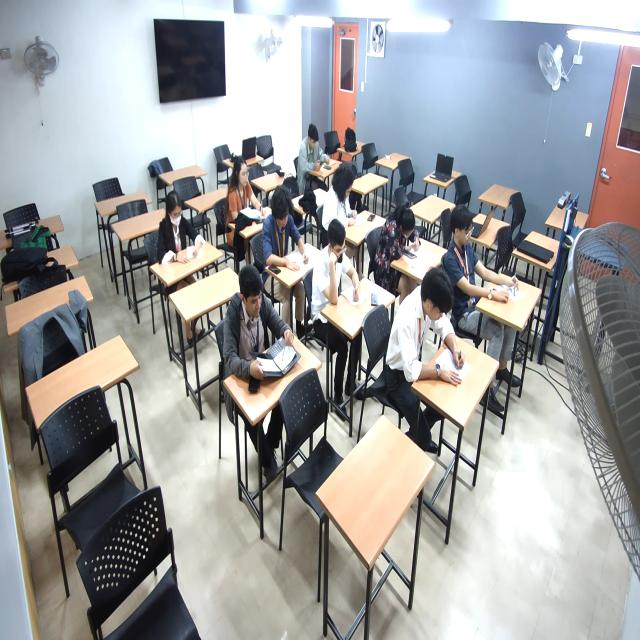read: (405, 278, 472, 396), (234, 275, 300, 393), (451, 209, 523, 304), (263, 193, 317, 282), (319, 230, 373, 315), (158, 192, 209, 272), (225, 161, 270, 234), (381, 206, 427, 265), (328, 169, 367, 235), (302, 125, 335, 176)
